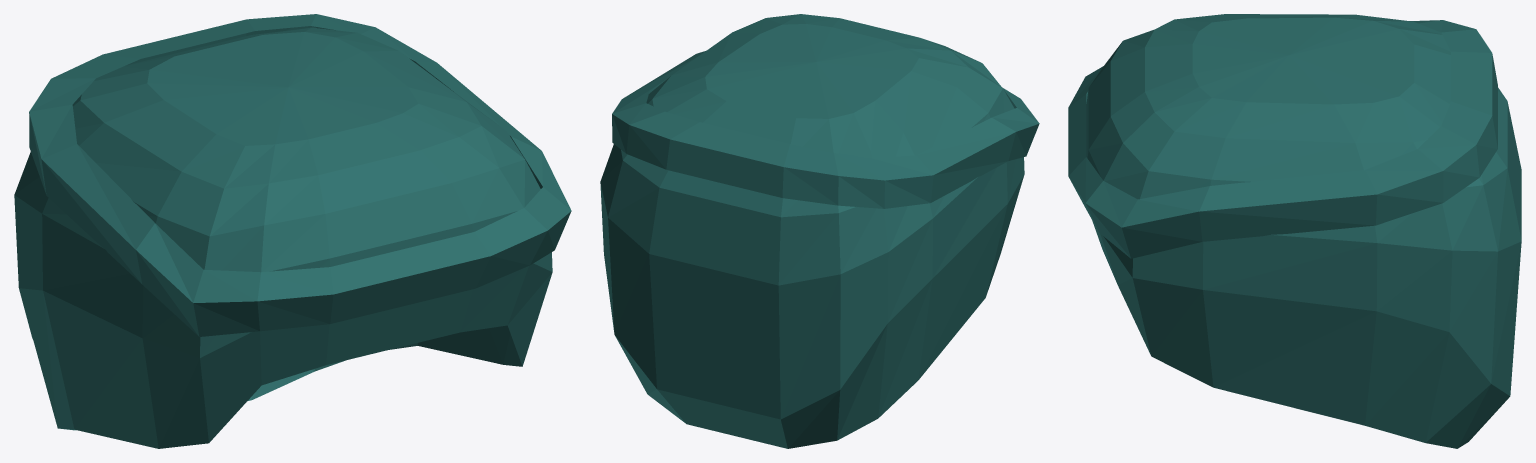
The model's file is headwear-turban.glb.
The picture shows the model from 3 angles, left to right: view 1: azimuth 30°, elevation 25°; view 2: azimuth 150°, elevation 25°; view 3: azimuth 270°, elevation 25°; orthographic projection. The views are drawn at different scales.
Parts seen in each view (by area): view 1: headwear-turban-0; view 2: headwear-turban-0; view 3: headwear-turban-0.
Boxes of the visible parts, x1=… form: headwear-turban-0: x1=14, y1=14, x2=571, y2=448; headwear-turban-0: x1=600, y1=14, x2=1039, y2=448; headwear-turban-0: x1=1068, y1=14, x2=1521, y2=448.
Size of the model in its own units: 0.2409 by 0.2279 by 0.261.
